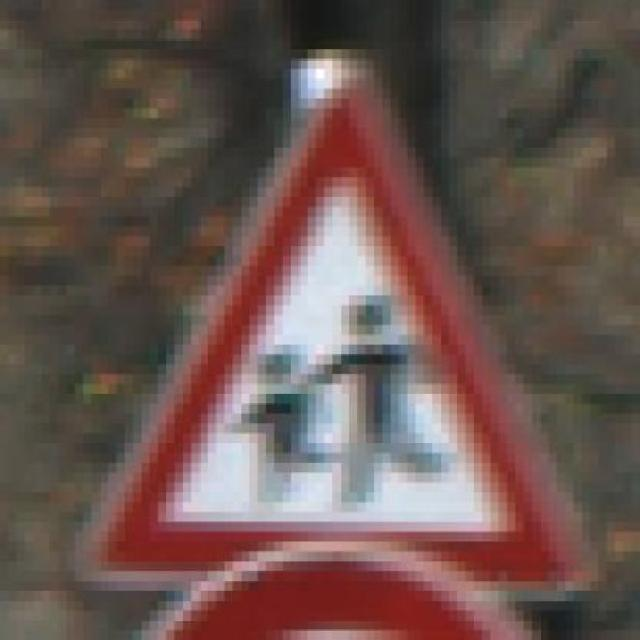Beware of children: (67, 49, 607, 600)
